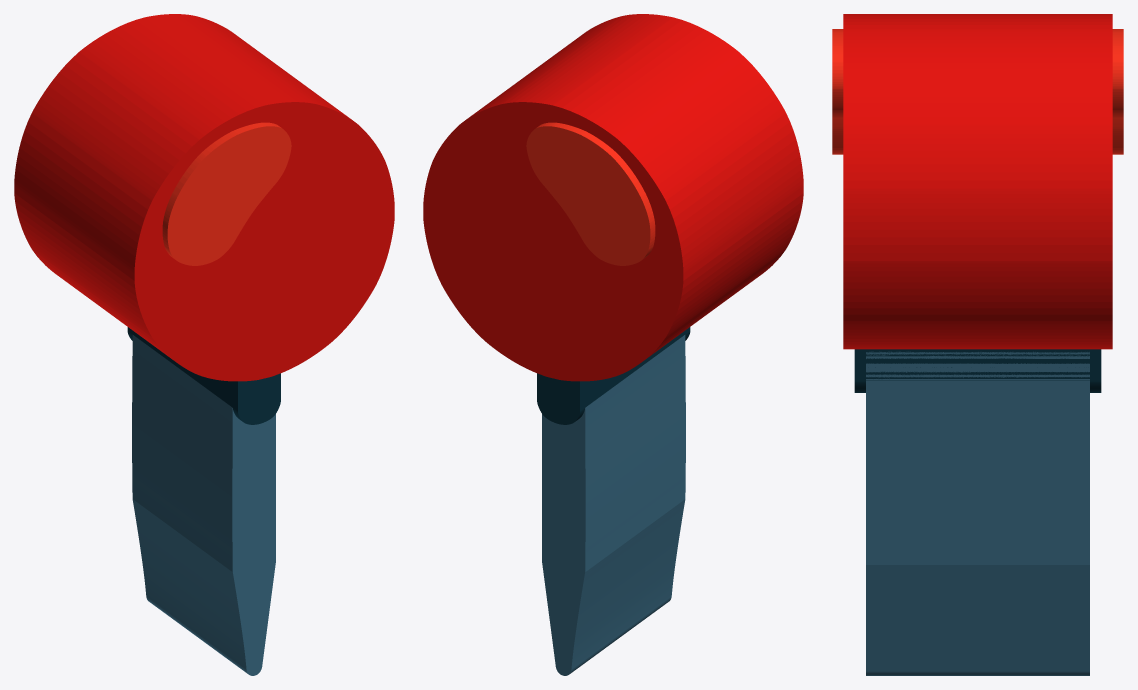
The picture shows the model from 3 angles, left to right: view 1: azimuth 30°, elevation 25°; view 2: azimuth 150°, elevation 25°; view 3: azimuth 270°, elevation 25°; orthographic projection. The views are drawn at different scales.
Visible parts, largest first — view 1: U+1F4CD_layer02_obj00, U+1F4CD_layer00_obj00, U+1F4CD_layer03_obj00, U+1F4CD_layer01_obj00; view 2: U+1F4CD_layer02_obj00, U+1F4CD_layer00_obj00, U+1F4CD_layer03_obj00, U+1F4CD_layer01_obj00; view 3: U+1F4CD_layer02_obj00, U+1F4CD_layer00_obj00, U+1F4CD_layer01_obj00, U+1F4CD_layer03_obj00.
Boxes of the visible parts, box(x1,y1,x2,y2) form: U+1F4CD_layer02_obj00: box(14, 14, 394, 381); U+1F4CD_layer00_obj00: box(132, 335, 275, 675); U+1F4CD_layer03_obj00: box(162, 122, 291, 265); U+1F4CD_layer01_obj00: box(127, 327, 280, 424); U+1F4CD_layer02_obj00: box(423, 14, 803, 381); U+1F4CD_layer00_obj00: box(542, 335, 685, 675); U+1F4CD_layer03_obj00: box(526, 122, 655, 265); U+1F4CD_layer01_obj00: box(537, 327, 690, 424); U+1F4CD_layer02_obj00: box(843, 14, 1112, 349); U+1F4CD_layer00_obj00: box(866, 351, 1089, 675); U+1F4CD_layer01_obj00: box(854, 349, 1101, 392); U+1F4CD_layer03_obj00: box(832, 29, 1123, 154).
Size of the model in its own units: 0.1499 by 0.3177 by 0.13.
